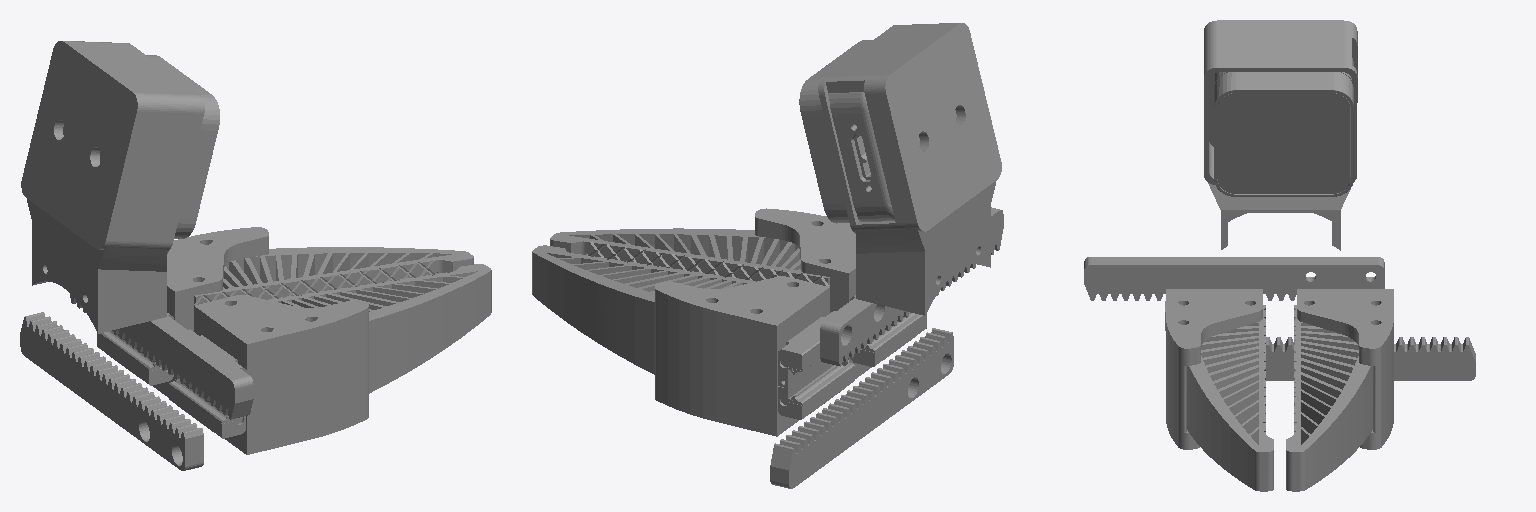
robot.urdf — reBot-DevArm_fixend:
<?xml version="1.0" encoding="utf-8"?>
<!--
  机械臂权威模型描述(URDF).MoveIt 规划,RViz 可视化与 MuJoCo 仿真都消费这一份文件,
  因此这里的关节名,关节限位和惯性参数是跨层共享的"唯一事实来源":
    * 规划侧:joint_limits.yaml,rebotarm.srdf(虚拟关节,规划组,末端执行器,命名状态);
    * 运行时侧:运动包按 joint{1..6} 逐关节读取 lower/upper/effort/velocity 做保守限幅;
    * 仿真侧:仿真包按 joint{1..6} 读取同样四个字段,
      其电机模型的 ctrlrange / 力矩上限必须与本文件逐值一致(有测试逐项比对).

  约定:
    * 长度单位米(m),角度单位弧度(rad),质量 kg,转动惯量 kg·m^2;
    * 所有 <origin> 表示"父 link 坐标系 -> 该元素自身坐标系"的平移与 RPY 旋转
      (固定轴 XYZ 外旋,等价于 R = Rz(yaw) * Ry(pitch) * Rx(roll));
    * joint 的 <axis> 写在子 link 坐标系中(原点变换之后),而不是父 link 坐标系;
    * 关节名 joint1..joint6 与末端名称被上层代码,参数文件硬编码引用,重命名会直接破坏联动;
    * <mesh filename> 一律使用 package:// 形式,且必须落在本包 meshes/ 目录下(有测试校验归属).

  运动链:base_link -joint1-> link1 -joint2-> link2 -joint3-> link3 -joint4-> link4
          -joint5-> link5 -joint6-> link6 -end_joint(固定)-> end_link(末端法兰/夹爪基座)
          end_link -left_finger_joint/right_finger_joint-> 两个手指 link(平移关节).
  注意:link 编号按"距基座由近到远"排列,不按装配位置命名;例如 link2 是上臂,link5 是腕部,
  link2 与 link5 的自碰撞检查由 rebotarm.srdf 保留,实际碰撞结果取决于关节姿态和碰撞几何.

  robot name 与 rebotarm.srdf 保持一致,MoveIt 与仿真侧会按同名模型装配.
-->
<!-- 规划,可视化与仿真共用的权威机器人描述文件(详见上方说明). -->
<robot
  name="reBot-DevArm_fixend">
  <link
    name="base_link">
    <inertial>
      <origin
        xyz="-7.849E-06 -1.1531E-06 0.029841"
        rpy="0 0 0" />
      <mass
        value="0.83660000" />
      <inertia
        ixx="0.00133040"
        ixy="0.00000001"
        ixz="0.00000000"
        iyy="0.00213119"
        iyz="0.00000000"
        izz="0.00275877" />
    </inertial>
    <visual>
      <origin
        xyz="0 0 0"
        rpy="0 0 0" />
      <geometry>
        <mesh
          filename="package://rebotarm_moveit_config/meshes/base_link.STL" />
      </geometry>
      <material
        name="">
        <color
          rgba="0.62745 0.62745 0.62745 1" />
      </material>
    </visual>
    <collision>
      <origin
        xyz="0 0 0"
        rpy="0 0 0" />
      <geometry>
        <mesh
          filename="package://rebotarm_moveit_config/meshes/base_link.STL" />
      </geometry>
    </collision>
  </link>
<!-- 链式结构总览:base_link 经 joint1..joint6 依次串到 link6,再由 end_joint(固定)接到 end_link,
     end_link 上挂两个手指平移关节(夹爪).三维几何由 meshes/ 下的 STL 提供,
     本文件只描述拓扑,几何原点,轴向与动力学参数.
     各 link 的 <inertial> 由 CAD 实测导出,其 <origin> 是质心在本 link 坐标系中的位置. -->
  <link
    name="link1">
    <inertial>
      <origin
        xyz="0.000113614552951627 -0.000616319527051323 0.0236476372671394"
        rpy="0 0 0" />
      <mass
        value="0.16130000" />
      <inertia
        ixx="0.00025207"
        ixy="0.00000000"
        ixz="-0.00002832"
        iyy="0.00015464"
        iyz="0.00000000"
        izz="0.00023416" />
    </inertial>
    <visual>
      <origin
        xyz="0 0 0"
        rpy="0 0 0" />
      <geometry>
        <mesh
          filename="package://rebotarm_moveit_config/meshes/link1.STL" />
      </geometry>
      <material
        name="">
        <color
          rgba="0.627450980392157 0.627450980392157 0.627450980392157 1" />
      </material>
    </visual>
    <collision>
      <origin
        xyz="0 0 0"
        rpy="0 0 0" />
      <geometry>
        <mesh
          filename="package://rebotarm_moveit_config/meshes/link1.STL" />
      </geometry>
    </collision>
  </link>
<!-- joint1:第一轴(腰/回转轴).原点抬高 0.08465 m 到肩部回转中心(x 偏移 -8.416E-05 m 可忽略);
     无旋转,因此 link1 与 base_link 同向,axis = +Z 就是绕 base_link 竖直轴旋转,
     正方向为俯视逆时针.
     限位 ±2.8 rad(±160°),比 ±π 各留约 0.34 rad(≈20°)余量,限制线缆扭转;
     effort=27 N·m,velocity=50 rad/s 与 joint2/joint3 相同(三者共用同一大电机型号),
     规划侧 joint_limits.yaml 把 max_velocity 限定为 3.0 rad/s,比这里更保守. -->
  <joint
    name="joint1"
    type="revolute">
    <origin
      xyz="-8.416E-05 0 0.08465"
      rpy="0 0 0" />
    <parent
      link="base_link" />
    <child
      link="link1" />
    <axis
      xyz="0 0 1" />
    <limit
      lower="-2.8"
      upper="2.8"
      effort="27"
      velocity="50" />
  </joint>
  <link
    name="link2">
    <inertial>
      <origin
        xyz="-0.13225622308888 -0.0030617036386309 -0.0308306967030205"
        rpy="0 0 0" />
      <mass
        value="1.32660000" />
      <inertia
        ixx="0.00073374"
        ixy="-0.00000043"
        ixz="0.00000851"
        iyy="0.01255987"
        iyz="0.00000128"
        izz="0.01281387" />
    </inertial>
    <visual>
      <origin
        xyz="0 0 0"
        rpy="0 0 0" />
      <geometry>
        <mesh
          filename="package://rebotarm_moveit_config/meshes/link2.STL" />
      </geometry>
      <material
        name="">
        <color
          rgba="0.627450980392157 0.627450980392157 0.627450980392157 1" />
      </material>
    </visual>
    <collision>
      <origin
        xyz="0 0 0"
        rpy="0 0 0" />
      <geometry>
        <mesh
          filename="package://rebotarm_moveit_config/meshes/link2.STL" />
      </geometry>
    </collision>
  </link>
<!-- joint2:肩部俯仰轴.原点相对于 link1 有 0.020084/0.031625/0.05555 m 的偏置,
     RPY = -1.5708 rad(-90° 绕 X)把子坐标系翻转:link2 的 +Z 指向 link1 的 -Y.
     axis = -Z 是在 link2 坐标系中表达的,折算回 link1 坐标系为 (0, -1, 0),
     即绕机械臂与肩部轴线正交的水平轴(-Y)做前俯/后仰.
     限位 [-3.14, 0.02] rad:只能单向俯下,几乎不能往后仰(0.02 rad 为限位留缝). -->
  <joint
    name="joint2"
    type="revolute">
    <origin
      xyz="0.020084 0.031625 0.05555"
      rpy="-1.5708 0 0" />
    <parent
      link="link1" />
    <child
      link="link2" />
    <axis
      xyz="0 0 -1" />
    <limit
      lower="-3.14"
      upper="0.02"
      effort="27"
      velocity="50" />
  </joint>
  <link
    name="link3">
    <inertial>
      <origin
        xyz="0.121040035791843 -0.0536211076627949 -0.0310137854608077"
        rpy="0 0 0" />
      <mass
        value="0.83530000" />
      <inertia
        ixx="0.00046807"
        ixy="-0.00003456"
        ixz="-0.00004260"
        iyy="0.00632695"
        iyz="0.00000006"
        izz="0.00648221" />
    </inertial>
    <visual>
      <origin
        xyz="0 0 0"
        rpy="0 0 0" />
      <geometry>
        <mesh
          filename="package://rebotarm_moveit_config/meshes/link3.STL" />
      </geometry>
      <material
        name="">
        <color
          rgba="0.627450980392157 0.627450980392157 0.627450980392157 1" />
      </material>
    </visual>
    <collision>
      <origin
        xyz="0 0 0"
        rpy="0 0 0" />
      <geometry>
        <mesh
          filename="package://rebotarm_moveit_config/meshes/link3.STL" />
      </geometry>
    </collision>
  </link>
<!-- joint3:肘部俯仰轴.原点 = link2 坐标系下沿 -X 平移 0.264 m(上臂长度),无旋转;
     axis = +Z(在 link3 坐标系中),折算回 link2 坐标系为 -Y,与 joint2 同向转动(俯仰).
     limit3 的 [-3.14, 0.02] 是当前规范模型的软件位置范围;几何原点使前臂可折回上臂旁.
     零位附近的碰撞需按完整关节姿态查询,命名状态及其值见 rebotarm.srdf. -->
  <joint
    name="joint3"
    type="revolute">
    <origin
      xyz="-0.264 0 0"
      rpy="0 0 0" />
    <parent
      link="link2" />
    <child
      link="link3" />
    <axis
      xyz="0 0 1" />
    <limit
      lower="-3.14"
      upper="0.02"
      effort="27"
      velocity="50" />
  </joint>
  <link
    name="link4">
    <inertial>
      <origin
        xyz="0.0608200956293136 -0.0511711906613122 -0.030299458623927"
        rpy="0 0 0" />
      <mass
        value="0.52000000" />
      <inertia
        ixx="0.00045986"
        ixy="0.00024219"
        ixz="-0.00000672"
        iyy="0.00075258"
        iyz="-0.00000535"
        izz="0.00066742" />
    </inertial>
    <visual>
      <origin
        xyz="0 0 0"
        rpy="0 0 0" />
      <geometry>
        <mesh
          filename="package://rebotarm_moveit_config/meshes/link4.STL" />
      </geometry>
      <material
        name="">
        <color
          rgba="0.627450980392157 0.627450980392157 0.627450980392157 1" />
      </material>
    </visual>
    <collision>
      <origin
        xyz="0 0 0"
        rpy="0 0 0" />
      <geometry>
        <mesh
          filename="package://rebotarm_moveit_config/meshes/link4.STL" />
      </geometry>
    </collision>
  </link>
<!-- joint4:大臂/前臂组俯仰轴(与 joint2,joint3 同轴系).原点 = link3 坐标系下
     (+0.2426, -0.054, -0.001625) m,即 joint3 与 joint4 的轴线间距 0.2426 m(前臂长度);无旋转,子坐标系与 link3 同向.
     axis = +Z(在 link4 坐标系中,也就是 link3 的 +Z)⇒ 折算回 link2 系为 -Y,
     因此 joint2/joint3/joint4 的转轴互相平行且方向一致,都是绕机械臂的同一水平轴转动.
     关节4 之后负载变小,换用 70 减速比电机:effort=7 N·m,velocity=200 rad/s,
     限位 [-1.87, 1.57] rad(约 -107°~+90°). -->
  <joint
    name="joint4"
    type="revolute">
    <origin
      xyz="0.2426 -0.054 -0.001625"
      rpy="0 0 0" />
    <parent
      link="link3" />
    <child
      link="link4" />
    <axis
      xyz="0 0 1" />
    <limit
      lower="-1.87"
      upper="1.57"
      effort="7"
      velocity="200" />
  </joint>
  <link
    name="link5">
    <inertial>
      <origin
        xyz="-0.00502802058982517 1.73866206692364E-06 0.0386233236326755"
        rpy="0 0 0" />
      <mass
        value="0.38300000" />
      <inertia
        ixx="0.00019772"
        ixy="-0.00000062"
        ixz="-0.00002426"
        iyy="0.00021737"
        iyz="0.00000002"
        izz="0.00017191" />
    </inertial>
    <visual>
      <origin
        xyz="0 0 0"
        rpy="0 0 0" />
      <geometry>
        <mesh
          filename="package://rebotarm_moveit_config/meshes/link5.STL" />
      </geometry>
      <material
        name="">
        <color
          rgba="0.627450980392157 0.627450980392157 0.627450980392157 1" />
      </material>
    </visual>
    <collision>
      <origin
        xyz="0 0 0"
        rpy="0 0 0" />
      <geometry>
        <mesh
          filename="package://rebotarm_moveit_config/meshes/link5.STL" />
      </geometry>
    </collision>
  </link>
<!-- joint5:腕部俯仰轴.原点 = link4 坐标系下 (+0.078308, -0.0375, -0.03) m;
     RPY = -1.5708 rad(-90° 绕 X)把子坐标系翻转:link5 的 +Z 指向 link4 的 -Y.
     axis = +Z(在 link5 坐标系中)折算回 link4 坐标系为 (0, -1, 0),
     与 joint2/joint3 的俯仰轴平行,方向相同,构成手腕俯仰.
     限位 ±1.57 rad(±90°),effort/velocity 同 joint4. -->
  <joint
    name="joint5"
    type="revolute">
    <origin
      xyz="0.078308 -0.0375 -0.03"
      rpy="-1.5708 0 0" />
    <parent
      link="link4" />
    <child
      link="link5" />
    <axis
      xyz="0 0 1" />
    <limit
      lower="-1.57"
      upper="1.57"
      effort="7"
      velocity="200" />
  </joint>
  <link
    name="link6">
    <inertial>
      <origin
        xyz="3.76418727127126E-06 -0.000100908819946677 0.0253308606425965"
        rpy="0 0 0" />
      <mass
        value="0.36630000" />
      <inertia
        ixx="0.00015554"
        ixy="-0.00000"
        ixz="-0.00000"
        iyy="0.00015554"
        iyz="-0.0000"
        izz="0.00013966" />
    </inertial>
    <visual>
      <origin
        xyz="0 0 0"
        rpy="0 0 0" />
      <geometry>
        <mesh
          filename="package://rebotarm_moveit_config/meshes/link6.STL" />
      </geometry>
      <material
        name="">
        <color
          rgba="0.627450980392157 0.627450980392157 0.627450980392157 1" />
      </material>
    </visual>
    <collision>
      <origin
        xyz="0 0 0"
        rpy="0 0 0" />
      <geometry>
        <mesh
          filename="package://rebotarm_moveit_config/meshes/link6.STL" />
      </geometry>
    </collision>
  </link>
<!-- joint6:腕部回转轴(末端滚转).原点 = link5 坐标系下 (+0.028008, 0, 0.04) m;
     RPY = (0, +1.5708, 0) 绕 Y 转 +90°,使 link6 的 +Z 指向 link5 的 +X.
     axis = +Z(在 link6 坐标系中)折算回 link5 坐标系为 (1, 0, 0),即绕 link5 的 +X 旋转.
     限位 ±3.14 rad,可整圈回转,是夹爪滚转姿态的调整轴. -->
  <joint
    name="joint6"
    type="revolute">
    <origin
      xyz="0.028008 0 0.04"
      rpy="0 1.5708 0" />
    <parent
      link="link5" />
    <child
      link="link6" />
    <axis
      xyz="0 0 1" />
    <limit
      lower="-3.14"
      upper="3.14"
      effort="7"
      velocity="200" />
  </joint>
  <link
    name="end_link">
    <inertial>
      <origin
        xyz="-0.0737654295815033 -9.5080995865868E-06 7.04327840286845E-06"
        rpy="0 0 0" />
      <mass
        value="0.5000000" />
      <inertia
        ixx="0.00037354"
        ixy="-0.00000011"
        ixz="0.00000050"
        iyy="0.00015830"
        iyz="0.00000348"
        izz="0.00045353" />
    </inertial>
    <visual
      name="gripper_base">
      <origin
        xyz="0 0 0"
        rpy="0 0 0" />
      <geometry>
        <mesh
          filename="package://rebotarm_moveit_config/meshes/gripper_base.stl" />
      </geometry>
      <material
        name="">
        <color
          rgba="0.627450980392157 0.627450980392157 0.627450980392157 1" />
      </material>
    </visual>
    <collision>
      <origin
        xyz="0 0 0"
        rpy="0 0 0" />
      <geometry>
        <mesh
          filename="package://rebotarm_moveit_config/meshes/gripper_base.stl" />
      </geometry>
    </collision>
  </link>
<!-- end_joint:固定关节(type=fixed),把 link6 与末端法兰 end_link 刚性连接;
     原点 = link6 坐标系下沿 +Z 平移 0.15539 m(腕长),RPY = (0, -1.5708, 3.1415),
     即先绕 Y 转 -90° 再绕 Z 转 180°:end_link 的 +Z 轴(工具接近方向)对到 link6 的 -X,
     而手指的平移轴 +Y 在 link6 中为 -Y,与接近方向正交(零位时已经 FK 复核).
     零位时 end_link 姿态相对 link6 绕 Z 翻转 180°,其原点在 base_link 的 (+0.2603, 0, +0.1917) m.
     fixed 关节的 <axis> 不参与运算,保留 (0 0 0) 只是 CAD 导出的习惯. -->
  <joint
    name="end_joint"
    type="fixed">
    <origin
      xyz="0 0 0.15539"
      rpy="0 -1.5708 3.1415" />
    <parent
      link="link6" />
    <child
      link="end_link" />
    <axis
      xyz="0 0 0" />
  </joint>
<!-- 夹爪:end_link 上挂两个镜像的平移关节,左右位移合起来是总行程.
     left_finger_joint 沿 +Y 平移,范围 [0, 0.045] m;right_finger_joint 沿 -Y 平移,范围 [-0.045, 0] m;
     两关节原点重合(xyz 全零),两侧位移分别为 +a,-a,总行程最大 0.09 m;
     新软指的真实指间距与抓取 TCP 尚待实测,不把此行程直接视为已标定开口
     (rebotarm.srdf 的 open / closed 命名状态取值与这里一一对应).
     effort 对平移关节按力(N)解释,即单指最大推力;velocity=0.2 m/s 与 joint_limits.yaml
     的 max_velocity 一致.每个手指 link 包含保留的齿条/滑块,安装底座和软指三份网格,
     visual 与 collision 均覆盖三部分.软指为未变形刚体模型;装配依据见 soft_gripper_model.md. -->
  <link name="left_finger_link">
    <visual
      name="left_finger">
      <origin
        xyz="0 0 0"
        rpy="0 0 0" />
      <geometry>
        <mesh
          filename="package://rebotarm_moveit_config/meshes/left_finger.stl" />
      </geometry>
      <material
        name="">
        <color
          rgba="0.627450980392157 0.627450980392157 0.627450980392157 1" />
      </material>
    </visual>
    <collision
      name="left_finger_collision">
      <origin
        xyz="0 0 0"
        rpy="0 0 0" />
      <geometry>
        <mesh
          filename="package://rebotarm_moveit_config/meshes/left_finger.stl" />
      </geometry>
    </collision>
    <visual name="left_soft_gripper_mount">
      <origin xyz="0 0 0" rpy="0 0 0" />
      <geometry>
        <mesh filename="package://rebotarm_moveit_config/meshes/left_soft_gripper_mount.stl" />
      </geometry>
      <material name="left_soft_gripper_mount_material"><color rgba="0.627450980392157 0.627450980392157 0.627450980392157 1" /></material>
    </visual>
    <collision name="left_soft_gripper_mount_collision">
      <origin xyz="0 0 0" rpy="0 0 0" />
      <geometry>
        <mesh filename="package://rebotarm_moveit_config/meshes/left_soft_gripper_mount.stl" />
      </geometry>
    </collision>
    <visual name="left_soft_gripper_finger">
      <origin xyz="0 0 0" rpy="0 0 0" />
      <geometry>
        <mesh filename="package://rebotarm_moveit_config/meshes/left_soft_gripper_finger.stl" />
      </geometry>
      <material name="left_soft_gripper_finger_material"><color rgba="0.627450980392157 0.627450980392157 0.627450980392157 1" /></material>
    </visual>
    <collision name="left_soft_gripper_finger_collision">
      <origin xyz="0 0 0" rpy="0 0 0" />
      <geometry>
        <mesh filename="package://rebotarm_moveit_config/meshes/left_soft_gripper_finger.stl" />
      </geometry>
    </collision>
  </link>
  <joint
    name="left_finger_joint"
    type="prismatic">
    <origin
      xyz="0 0 0"
      rpy="0 0 0" />
    <parent
      link="end_link" />
    <child
      link="left_finger_link" />
    <axis
      xyz="0 1 0" />
    <limit
      lower="0.0"
      upper="0.045"
      effort="1.0"
      velocity="0.2" />
  </joint>
<!-- right_finger_link / right_finger_joint:与左指镜像,轴向 -Y,范围 [-0.045, 0],
     其余参数(effort / velocity / 碰撞体)与左指一致,两指共同决定夹爪开口. -->
  <link name="right_finger_link">
    <visual
      name="right_finger">
      <origin
        xyz="0 0 0"
        rpy="0 0 0" />
      <geometry>
        <mesh
          filename="package://rebotarm_moveit_config/meshes/right_finger.stl" />
      </geometry>
      <material
        name="">
        <color
          rgba="0.627450980392157 0.627450980392157 0.627450980392157 1" />
      </material>
    </visual>
    <collision
      name="right_finger_collision">
      <origin
        xyz="0 0 0"
        rpy="0 0 0" />
      <geometry>
        <mesh
          filename="package://rebotarm_moveit_config/meshes/right_finger.stl" />
      </geometry>
    </collision>
    <visual name="right_soft_gripper_mount">
      <origin xyz="0 0 0" rpy="0 0 0" />
      <geometry>
        <mesh filename="package://rebotarm_moveit_config/meshes/right_soft_gripper_mount.stl" />
      </geometry>
      <material name="right_soft_gripper_mount_material"><color rgba="0.627450980392157 0.627450980392157 0.627450980392157 1" /></material>
    </visual>
    <collision name="right_soft_gripper_mount_collision">
      <origin xyz="0 0 0" rpy="0 0 0" />
      <geometry>
        <mesh filename="package://rebotarm_moveit_config/meshes/right_soft_gripper_mount.stl" />
      </geometry>
    </collision>
    <visual name="right_soft_gripper_finger">
      <origin xyz="0 0 0" rpy="0 0 0" />
      <geometry>
        <mesh filename="package://rebotarm_moveit_config/meshes/right_soft_gripper_finger.stl" />
      </geometry>
      <material name="right_soft_gripper_finger_material"><color rgba="0.627450980392157 0.627450980392157 0.627450980392157 1" /></material>
    </visual>
    <collision name="right_soft_gripper_finger_collision">
      <origin xyz="0 0 0" rpy="0 0 0" />
      <geometry>
        <mesh filename="package://rebotarm_moveit_config/meshes/right_soft_gripper_finger.stl" />
      </geometry>
    </collision>
  </link>
  <joint
    name="right_finger_joint"
    type="prismatic">
    <!-- 单电机镜像机构;MoveIt 只规划左指独立自由度,物理模型已有相同耦合. -->
    <mimic joint="left_finger_joint" multiplier="-1" offset="0" />
    <origin
      xyz="0 0 0"
      rpy="0 0 0" />
    <parent
      link="end_link" />
    <child
      link="right_finger_link" />
    <axis
      xyz="0 1 0" />
    <limit
      lower="-0.045"
      upper="0.0"
      effort="1.0"
      velocity="0.2" />
  </joint>
  <!-- D405 CAD frames; metre meshes, hole-aligned mounting. These are not calibrated
       optical frames. Simulation-only inertia estimates live in rebotarm_simulation. -->
  <link name="d405_mount_link">
    <visual name="d405_mount">
      <geometry><mesh filename="package://rebotarm_moveit_config/meshes/d405_mount.stl" /></geometry>
      <material name="d405_mount_silver"><color rgba="0.627450980392157 0.627450980392157 0.627450980392157 1" /></material>
    </visual>
    <collision name="d405_mount_collision">
      <geometry><mesh filename="package://rebotarm_moveit_config/meshes/d405_mount.stl" /></geometry>
    </collision>
  </link>
  <link name="d405_link">
    <visual name="d405">
      <geometry><mesh filename="package://rebotarm_moveit_config/meshes/d405.stl" /></geometry>
      <material name="d405_silver"><color rgba="0.627450980392157 0.627450980392157 0.627450980392157 1" /></material>
    </visual>
    <collision name="d405_collision">
      <geometry><mesh filename="package://rebotarm_moveit_config/meshes/d405.stl" /></geometry>
    </collision>
  </link>
  <joint name="d405_mount_joint" type="fixed">
    <parent link="end_link" /><child link="d405_mount_link" />
    <origin xyz="-0.08630933 0.0002079068932795 0.0000007587263523" rpy="1.5707963267948966 0 1.5707963267948966" />
  </joint>
  <joint name="d405_joint" type="fixed">
    <parent link="d405_mount_link" /><child link="d405_link" />
    <origin xyz="0.0010014555241297094 0.06301963080951393 0.011604510071599904" rpy="0.26179625230552039 0 0" />
  </joint>
</robot>

--- Render facts (derived) ---
3 views of the same robot in one strip: view 1: azimuth 30°, elevation 25°; view 2: azimuth 150°, elevation 25°; view 3: azimuth 270°, elevation 25° (orthographic).
Model reBot-DevArm_fixend with 12 links and 11 joints (6 revolute, 2 prismatic, 3 fixed), rooted at base_link, posed every joint at zero.
Visible links, largest first — view 1: right_finger_link, d405_mount_link, left_finger_link, d405_link; view 2: left_finger_link, d405_mount_link, right_finger_link, d405_link; view 3: right_finger_link, left_finger_link, d405_link, d405_mount_link.
Boxes of the visible links, bbox=[...] form: right_finger_link: bbox=[70, 264, 491, 454]; d405_mount_link: bbox=[21, 41, 204, 333]; left_finger_link: bbox=[20, 227, 473, 470]; d405_link: bbox=[146, 55, 219, 238]; left_finger_link: bbox=[532, 245, 953, 488]; d405_mount_link: bbox=[818, 23, 1001, 315]; right_finger_link: bbox=[550, 207, 1003, 378]; d405_link: bbox=[799, 40, 894, 223]; right_finger_link: bbox=[1084, 257, 1384, 491]; left_finger_link: bbox=[1266, 289, 1475, 491]; d405_link: bbox=[1214, 58, 1353, 196]; d405_mount_link: bbox=[1204, 20, 1357, 250].
Bounding box of the posed robot: 0.1324 × 0.1173 × 0.1122 m (x, y, z).
8 mesh visuals loaded from 16 distinct referenced files (8 binary STL); not drawn: 8 (reference not matched to a file when rendering).
